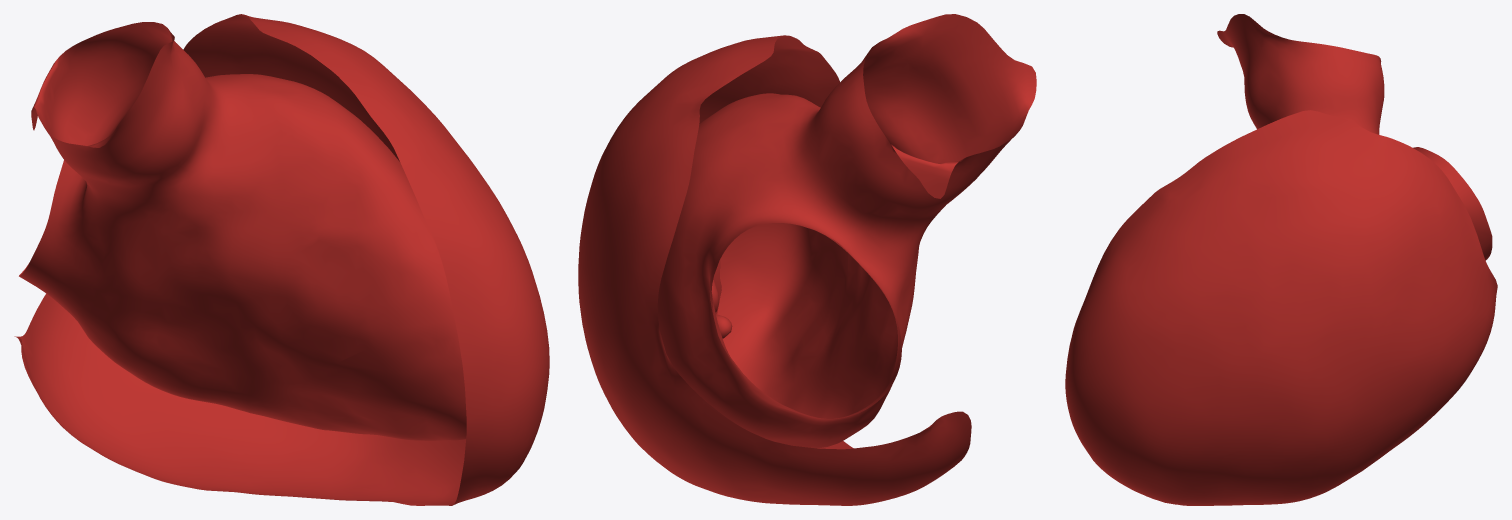
Rendered from circulatorio-left-ventricle.glb.
The picture shows the model from 3 angles, left to right: view 1: azimuth 30°, elevation 25°; view 2: azimuth 150°, elevation 25°; view 3: azimuth 270°, elevation 25°; orthographic projection. The views are drawn at different scales.
Parts seen in each view (by area): view 1: Left ventricle; view 2: Left ventricle, Inferior papillary muscle of left ventricle; view 3: Left ventricle.
Part boxes in pixels (box(x1,y1,x2,y2)): Left ventricle: box(14, 14, 549, 505); Left ventricle: box(578, 14, 1036, 505); Inferior papillary muscle of left ventricle: box(711, 259, 732, 338); Left ventricle: box(1065, 14, 1497, 505).
Size of the model in its own units: 0.0799 by 0.0896 by 0.0874.
